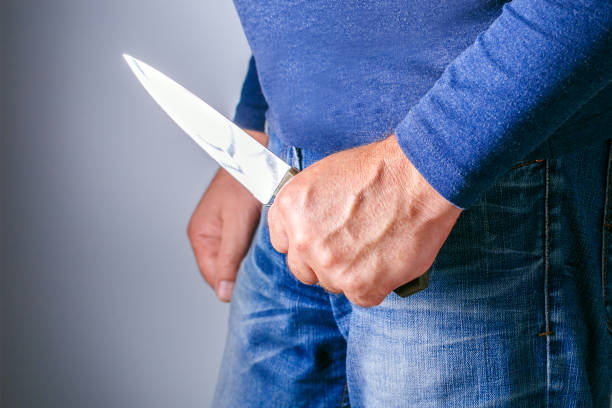knife: (121, 52, 431, 298)
